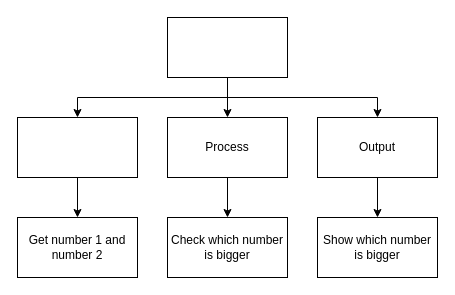
This 455x295 diagram has some shape labels left out. Each missing label, with the centre of its shape:
"Input" belongs at point 77,147.
"What number is larger?" belongs at point 227,47.
